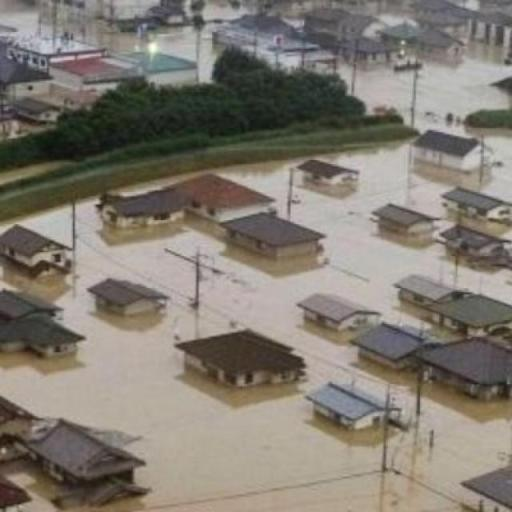flood: (0, 42, 512, 512), (0, 0, 222, 82)
house: (4, 407, 145, 490), (178, 328, 303, 392), (425, 333, 512, 406), (170, 174, 277, 228), (224, 210, 324, 262), (0, 317, 88, 369), (354, 316, 434, 373), (309, 382, 391, 435), (0, 222, 75, 278), (4, 35, 106, 74), (89, 276, 171, 320), (414, 127, 482, 179), (105, 188, 182, 232), (300, 292, 380, 334), (444, 291, 512, 339), (443, 184, 512, 226), (392, 272, 460, 314), (461, 461, 512, 512), (53, 56, 136, 84), (375, 202, 439, 238), (298, 157, 361, 191), (128, 51, 199, 78), (468, 6, 512, 44), (302, 2, 351, 35), (343, 38, 395, 68), (419, 26, 465, 59), (15, 96, 61, 122)
